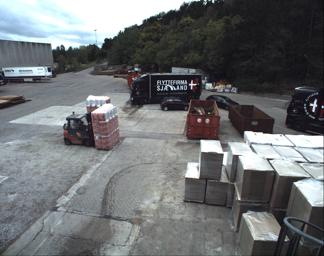rockwool_batts: (92, 102, 119, 147), (86, 93, 108, 116)
